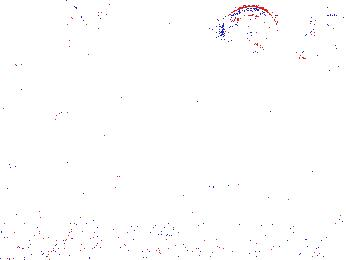moon jellyfish: (57, 1, 129, 68), (9, 1, 83, 53), (221, 5, 280, 55), (292, 15, 346, 63), (1, 24, 23, 99)
